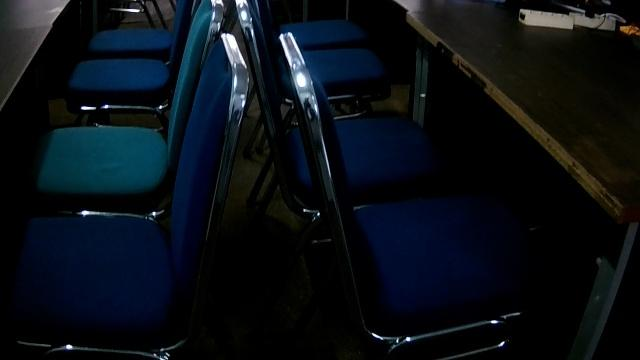Kursi: (0, 32, 250, 359), (280, 32, 524, 359), (27, 0, 227, 218), (66, 0, 199, 127)
Meja: (405, 2, 639, 228)
